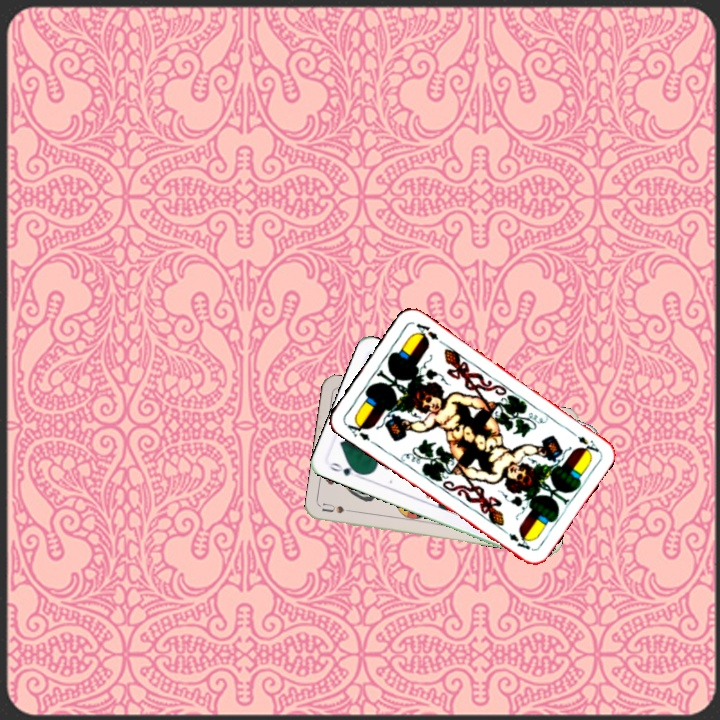EA: (341, 416, 378, 447), (573, 432, 602, 457)
GO: (325, 458, 365, 481)
SU: (319, 499, 360, 516)
